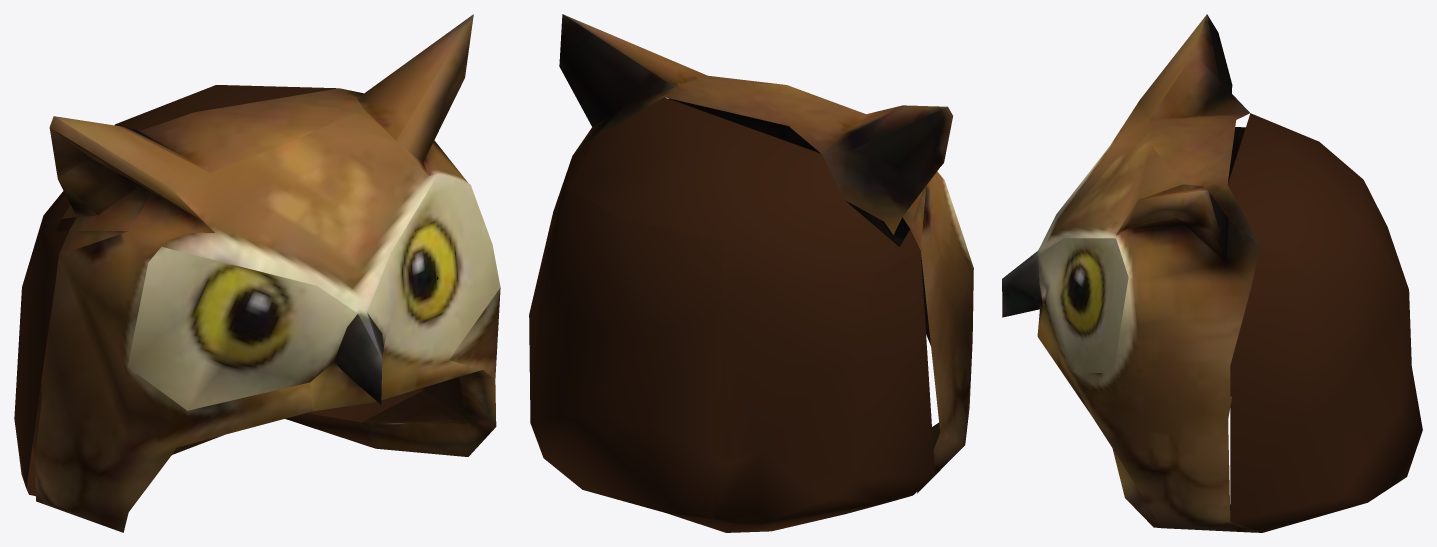
The model's file is owl.glb.
The picture shows the model from 3 angles, left to right: view 1: azimuth 30°, elevation 25°; view 2: azimuth 150°, elevation 25°; view 3: azimuth 270°, elevation 25°; orthographic projection. The views are drawn at different scales.
Visible parts, largest first — view 1: geometry_0; view 2: geometry_0; view 3: geometry_0.
Part boxes in pixels (x1,y1,x2,y2): geometry_0: (14,14,500,532); geometry_0: (529,14,973,532); geometry_0: (1002,14,1422,532).
Bounding box in the file's own units: 0.5267 × 0.5053 × 0.515.
2 materials, 1 textured.
